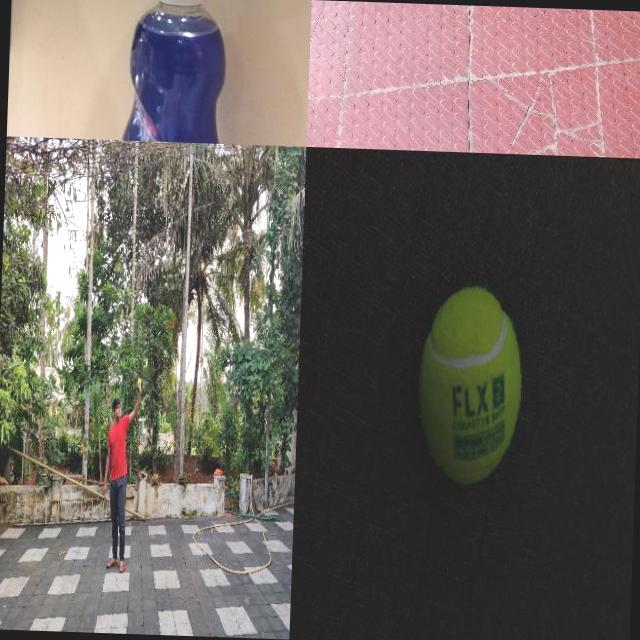Tennis Ball: (414, 285, 524, 486), (137, 378, 140, 384)
